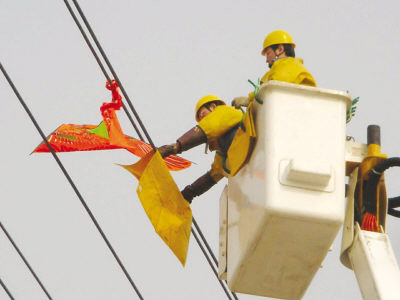kite: (29, 76, 194, 172)
